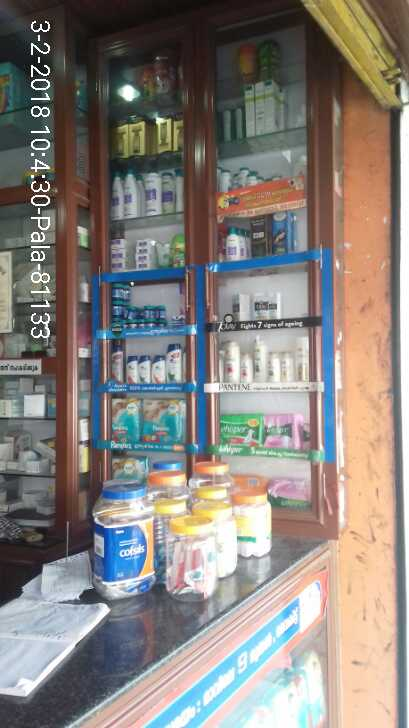vicks: (109, 282, 173, 326)
